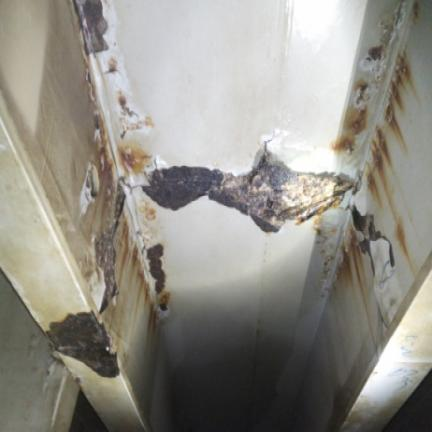besi_tidak_karat: (0, 0, 149, 430), (94, 0, 371, 175), (135, 194, 324, 427), (0, 95, 104, 335), (62, 355, 144, 430)
karat: (142, 147, 353, 231), (47, 311, 119, 377), (94, 185, 124, 312), (119, 144, 150, 174)
